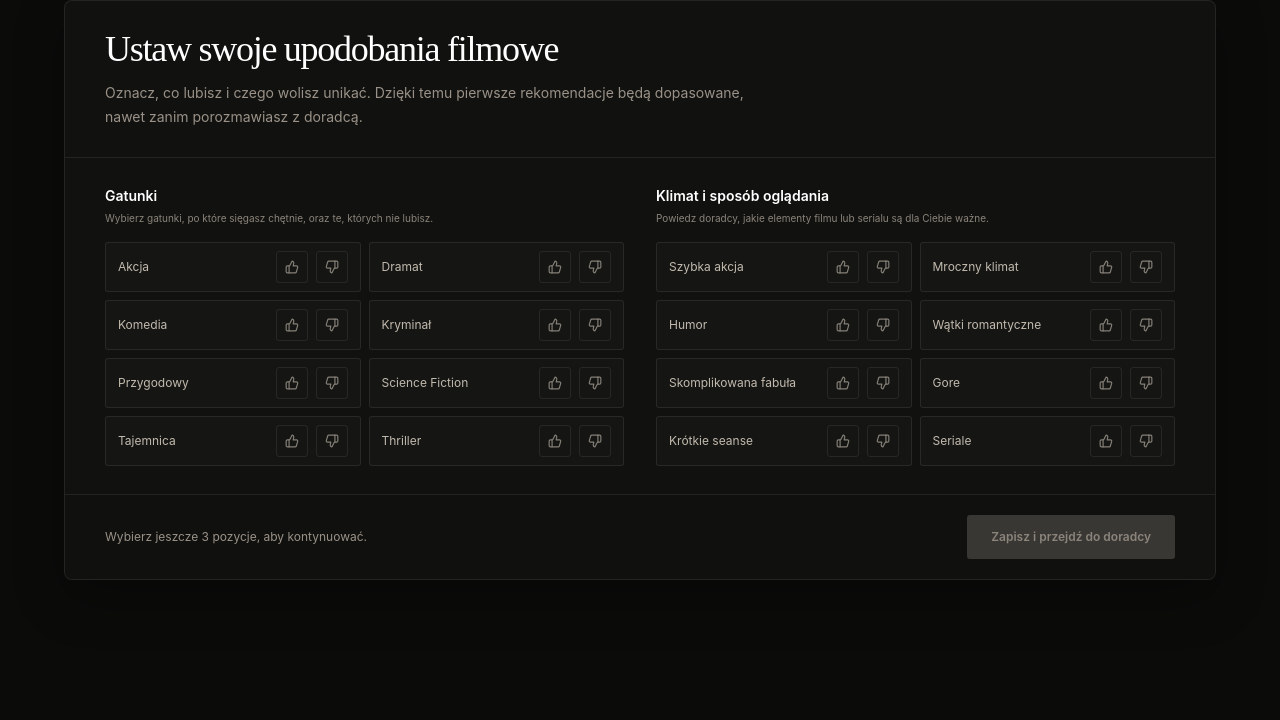
TasteOnboardingPanel › switches and removes a choice without counting it twice
Click the button named "Lubię: Thriller" at (555, 441), box [539, 425, 571, 457]
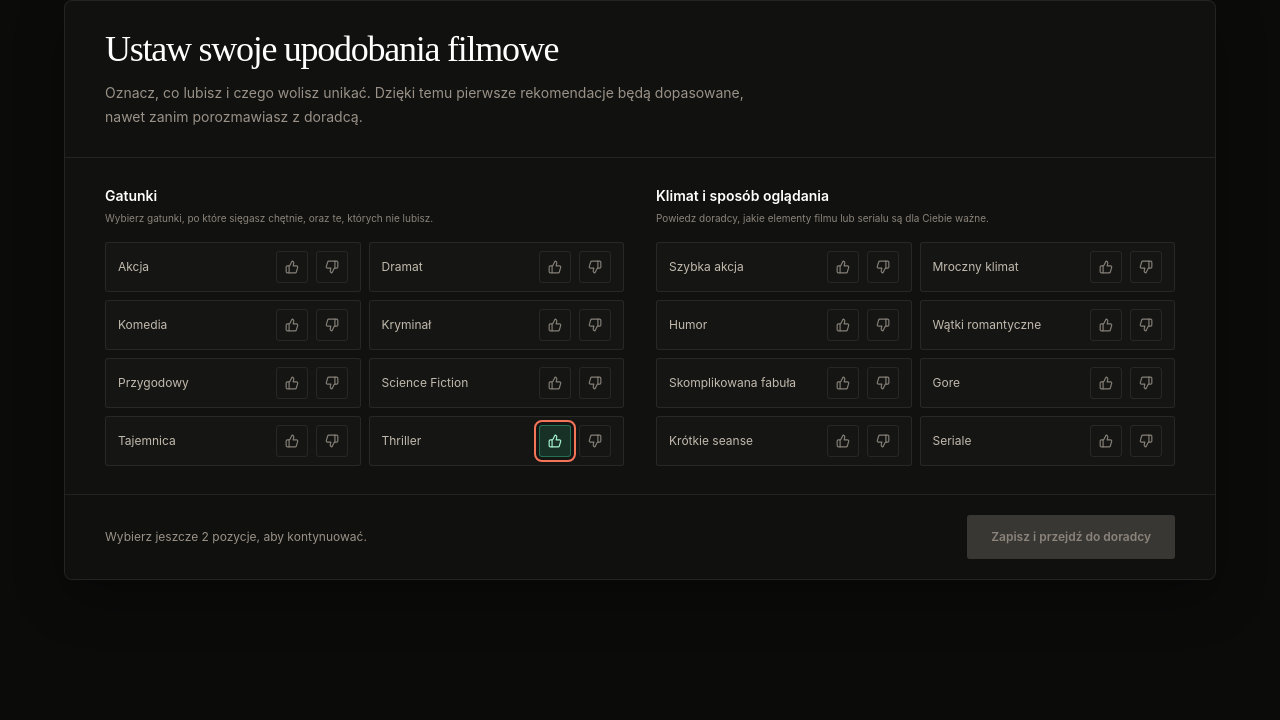
Expected: the text "Wybierz jeszcze 2 pozycje, aby kontynuować." is shown, [105, 529, 367, 545]
Click the button named "Nie lubię: Thriller" at (595, 441), box [579, 425, 611, 457]
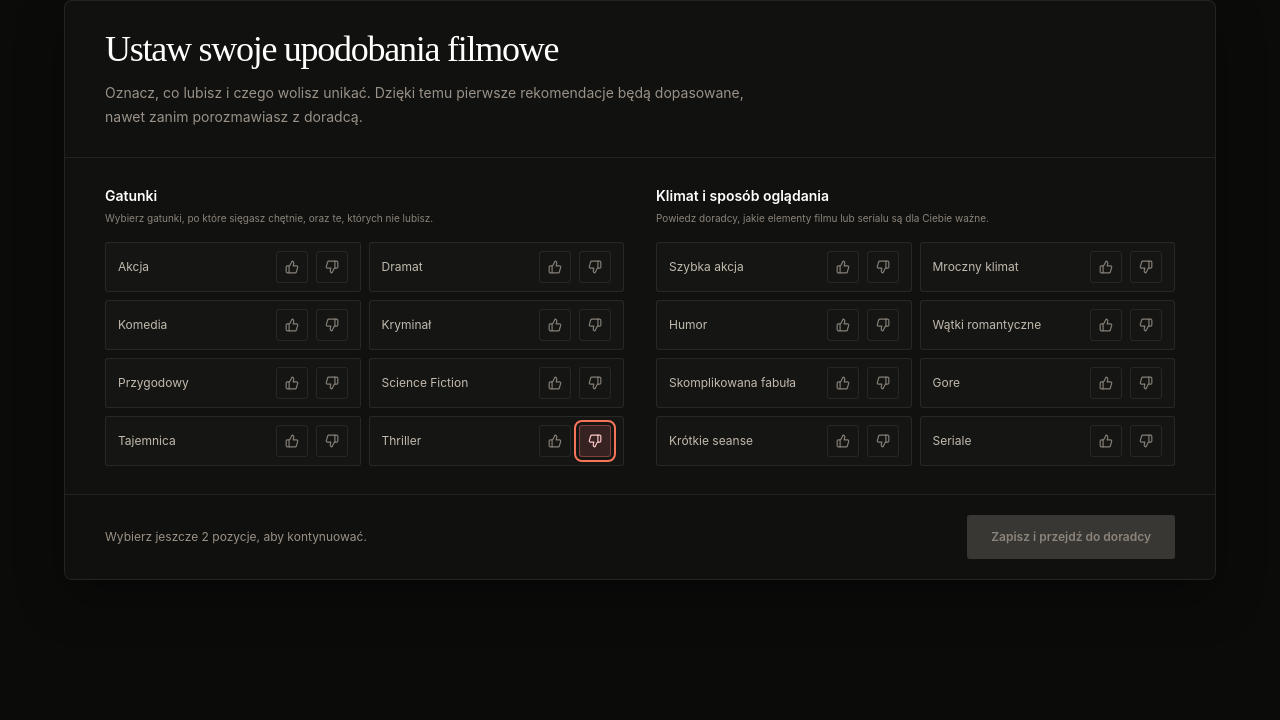
Expected: the text "Wybierz jeszcze 2 pozycje, aby kontynuować." is shown, [105, 529, 367, 545]
Click the button named "Nie lubię: Thriller" at (595, 441), box [579, 425, 611, 457]
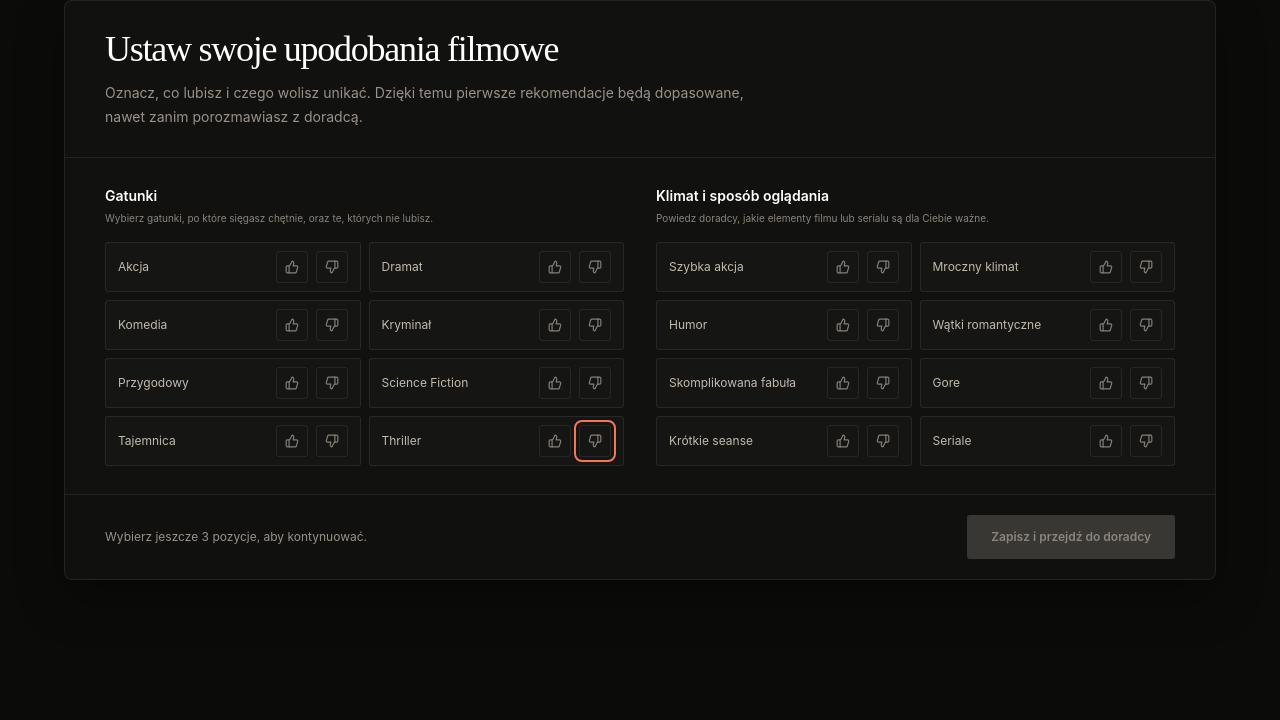
Expected: the text "Wybierz jeszcze 3 pozycje, aby kontynuować." is shown, [105, 529, 367, 545]
